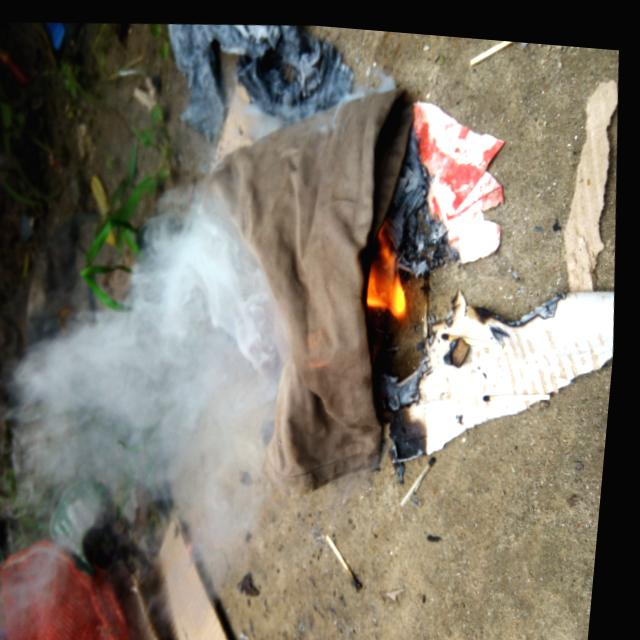Fire: (360, 214, 418, 316)
Smoke: (0, 187, 320, 570)
